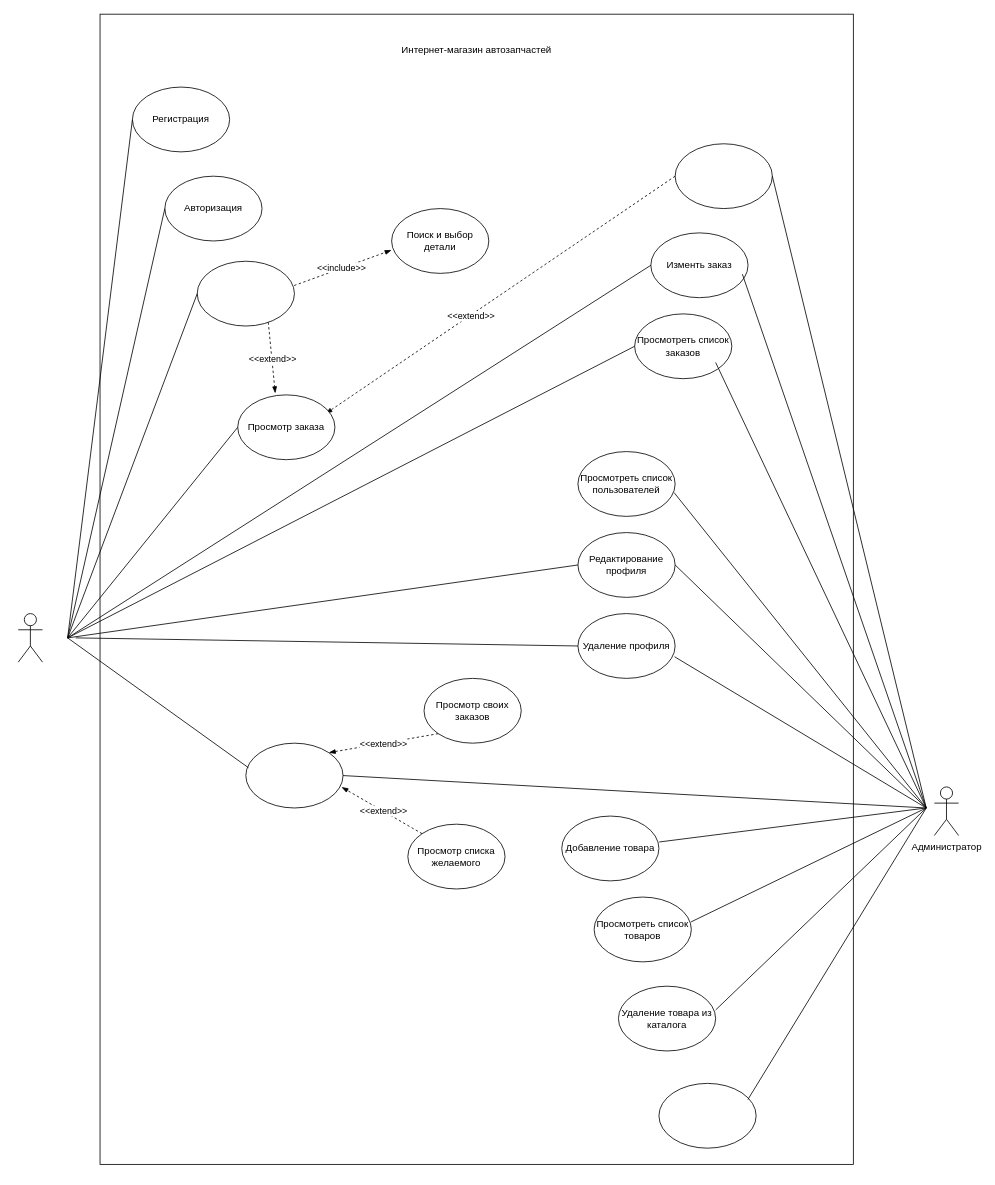
The diagram is 995 pixels wide and 1185 high, and some of its shapes have lost their labels. The shapes that lost their labels are listed below. From the top down, each one's centre as x and y in pixels, then its label:
At point (723, 176): "Удаление заказа".
At point (245, 293): "Оформление заказа".
At point (30, 637): "Клиент".
At point (294, 775): "Просмотр профиля".
At point (707, 1115): "Редактирование товара".
